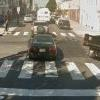Crosswalk: (3, 57, 100, 100)
